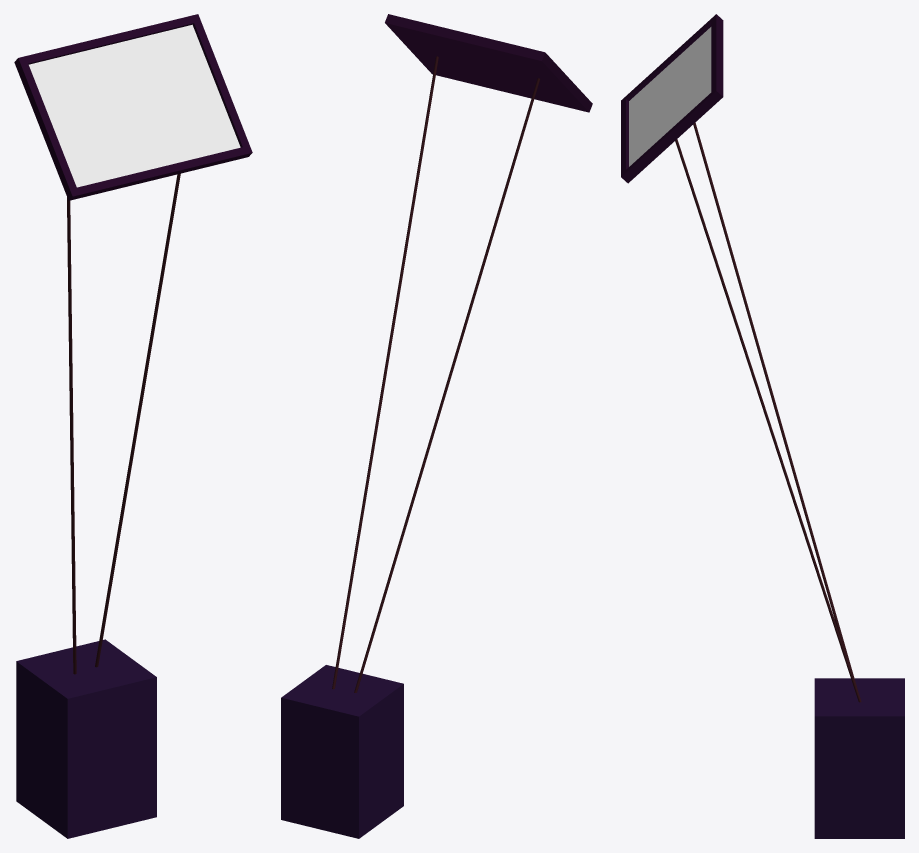
The model's file is screen_text.glb.
3 renders of one model, left to right at view 1: azimuth 30°, elevation 25°; view 2: azimuth 150°, elevation 25°; view 3: azimuth 270°, elevation 25°, orthographic. The views are drawn at different scales.
Visible parts, largest first — view 1: building, screen, structure, bar 2, bar 1; view 2: building, structure, bar 2, bar 1; view 3: building, screen, structure, bar 2, bar 1.
Boxes of the visible parts, left/top/right/bottom form: building: left=16, top=639, right=156, bottom=838; screen: left=29, top=24, right=240, bottom=187; structure: left=14, top=14, right=252, bottom=200; bar 2: left=95, top=173, right=180, bottom=667; bar 1: left=67, top=197, right=76, bottom=674; building: left=281, top=665, right=403, bottom=838; structure: left=385, top=14, right=592, bottom=112; bar 2: left=332, top=56, right=438, bottom=689; bar 1: left=354, top=78, right=540, bottom=692; building: left=814, top=678, right=904, bottom=838; screen: left=629, top=27, right=711, bottom=166; structure: left=621, top=14, right=723, bottom=183; bar 2: left=675, top=139, right=861, bottom=702; bar 1: left=693, top=122, right=857, bottom=688.
Size of the model in its own units: 4.37 by 18.16 by 6.3.
